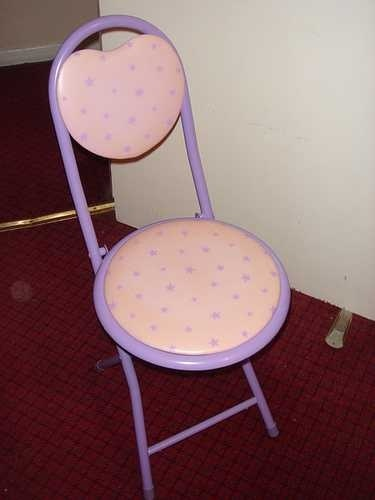obstacle: (49, 15, 289, 499)
